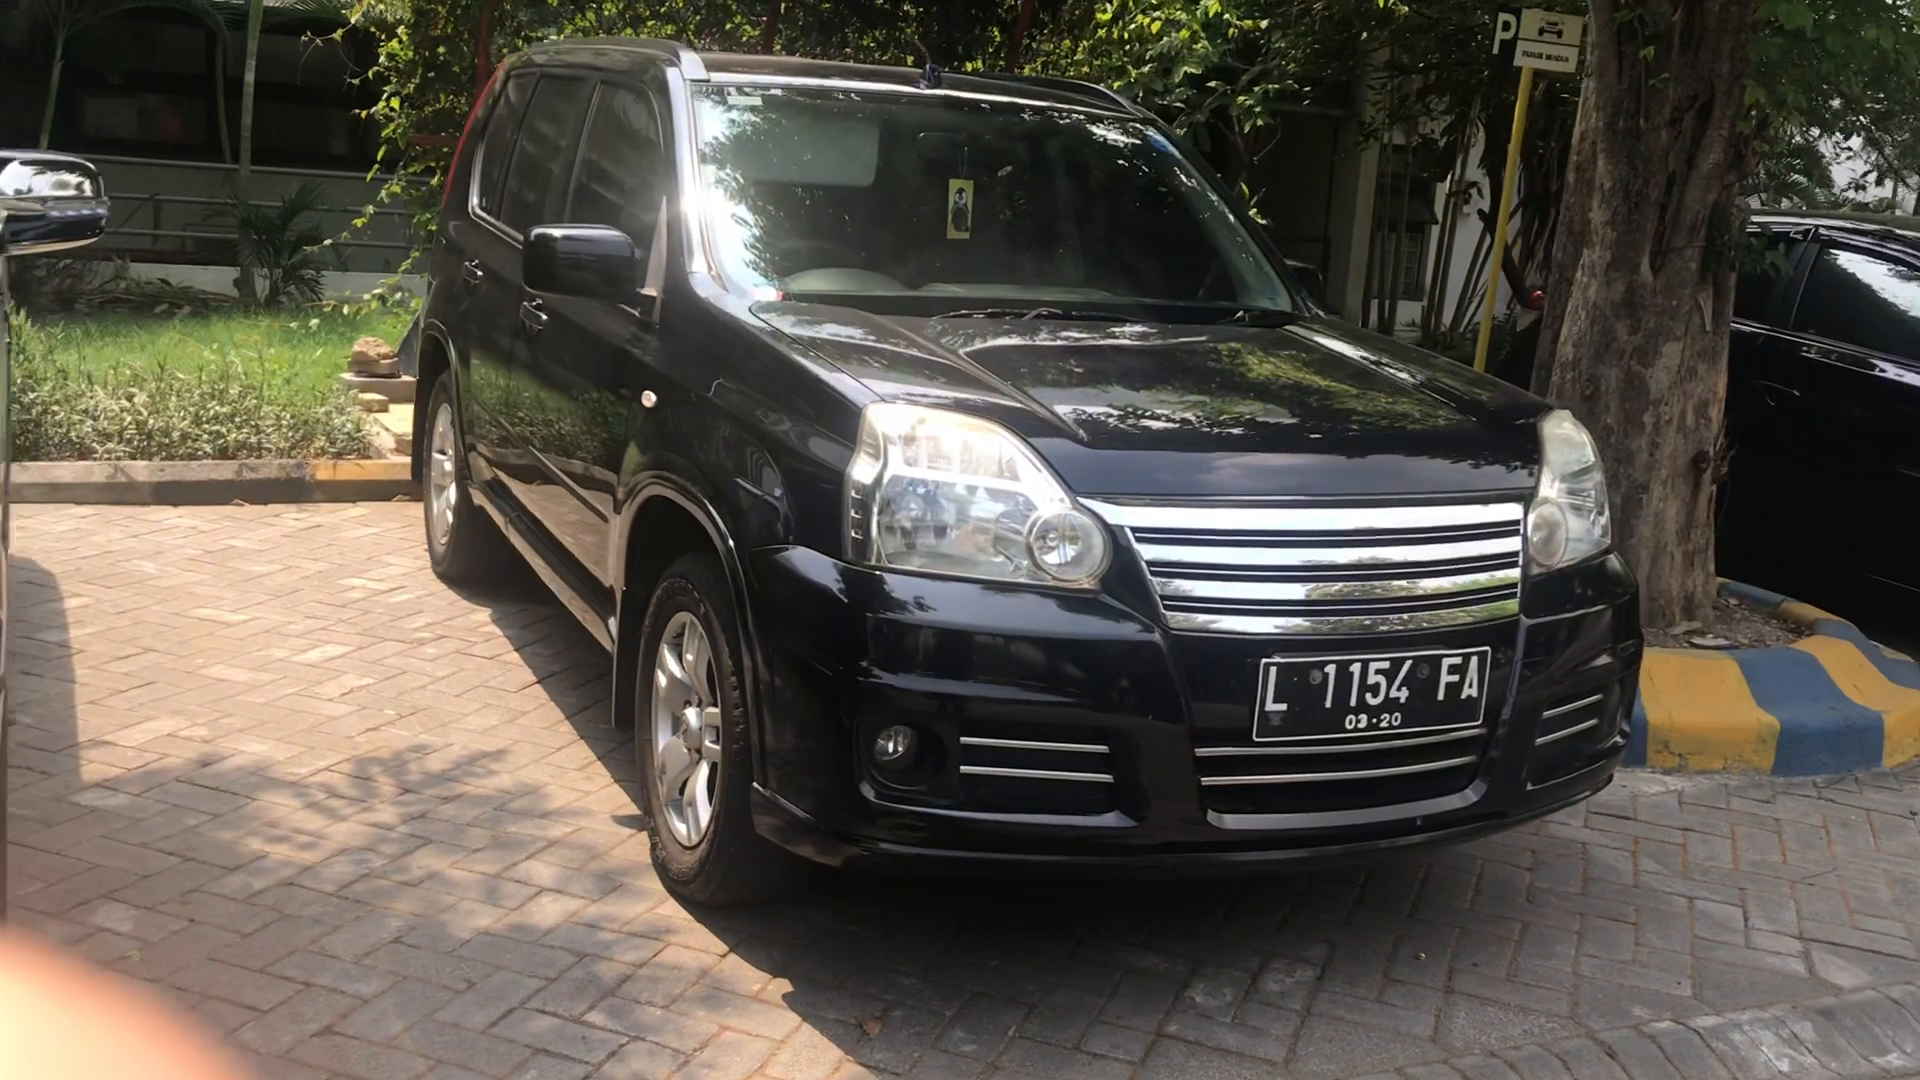plate: (1260, 660, 1490, 730)
